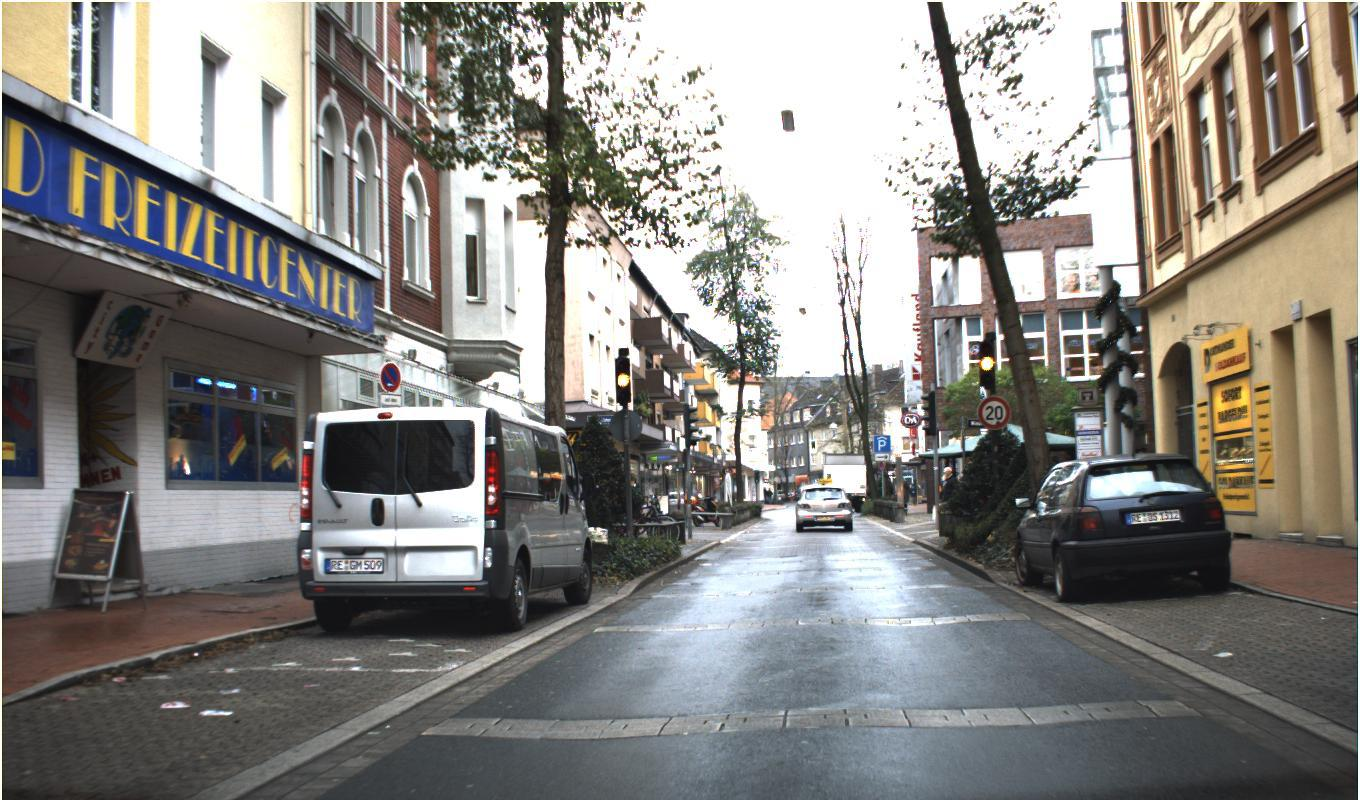speed limit 20 prohibitory: (975, 395, 1011, 430)
